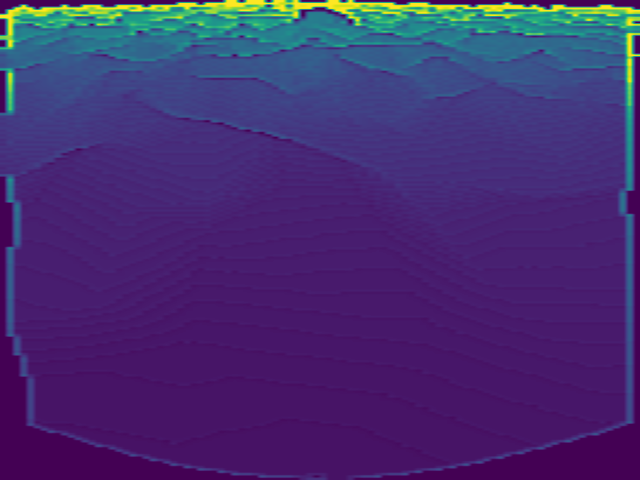car_0198: (295, 7, 359, 31)
